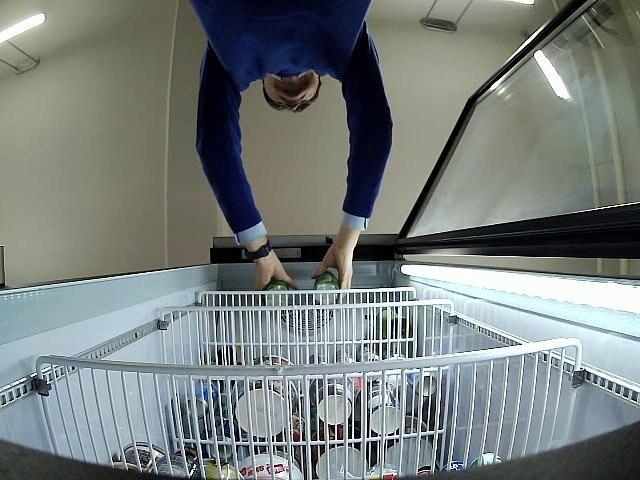18_trevi: (262, 282, 292, 316), (313, 271, 339, 308)
